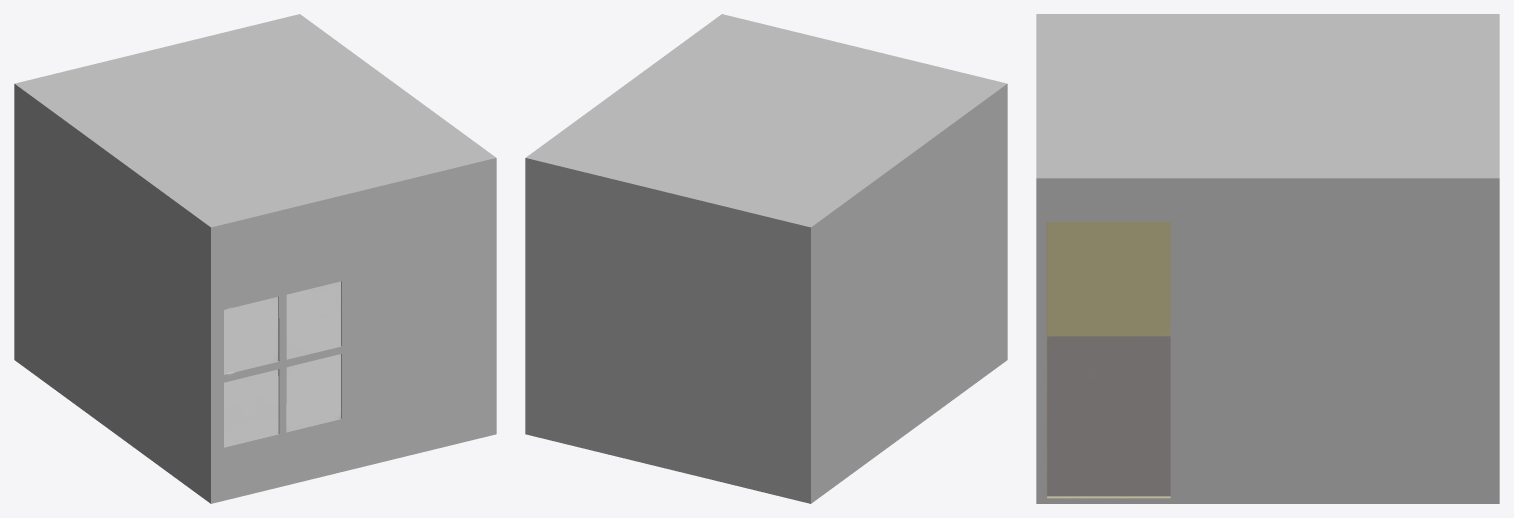
File: Room.fbx
The picture shows the model from 3 angles, left to right: view 1: azimuth 30°, elevation 25°; view 2: azimuth 150°, elevation 25°; view 3: azimuth 270°, elevation 25°; orthographic projection. The views are drawn at different scales.
Visible parts, largest first — view 1: Cube; view 2: Cube; view 3: Cube.
Boxes of the visible parts, <box> form: Cube: <box>14,14,496,503</box>; Cube: <box>525,14,1007,503</box>; Cube: <box>1036,14,1499,503</box>.
Size of the model in its own units: 2.6 by 2.41 by 3.1.
